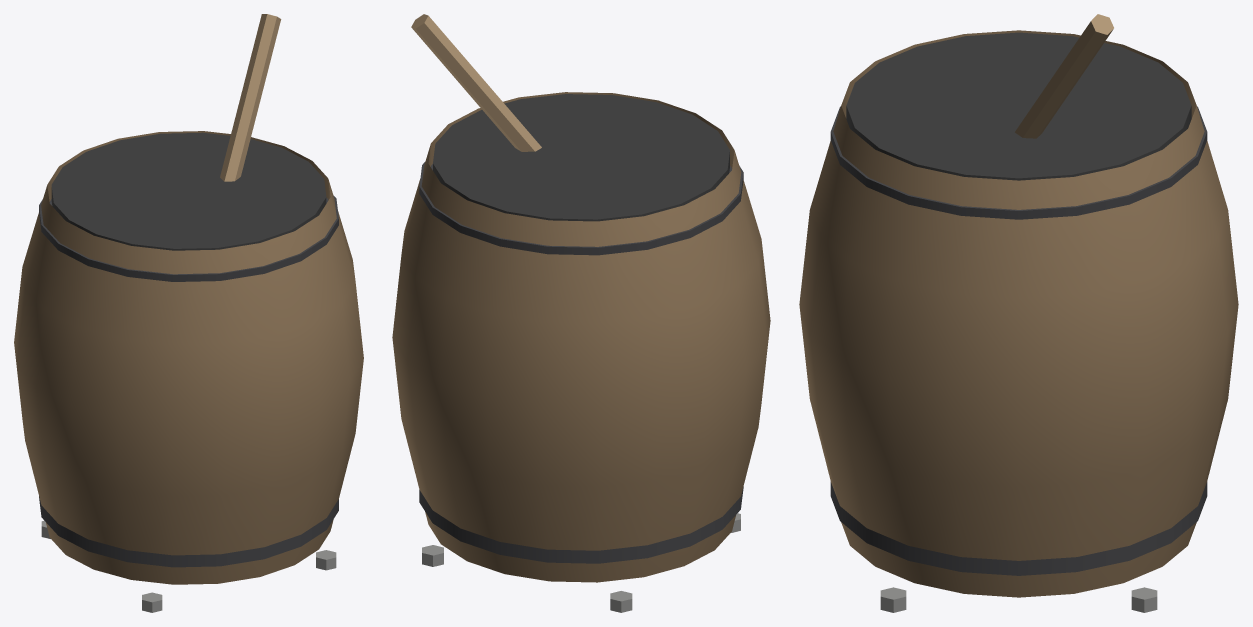
The model's file is pitch.glb.
3 renders of one model, left to right at view 1: azimuth 30°, elevation 25°; view 2: azimuth 150°, elevation 25°; view 3: azimuth 270°, elevation 25°, orthographic. The views are drawn at different scales.
Visible parts, largest first — view 1: Part; view 2: Part; view 3: Part.
Boxes of the visible parts, box(x1,y1,x2,y2) form: Part: box(14, 14, 363, 612); Part: box(392, 14, 770, 612); Part: box(799, 14, 1238, 612).
Bounding box in the file's own units: 0.42 × 0.6402 × 0.42.
